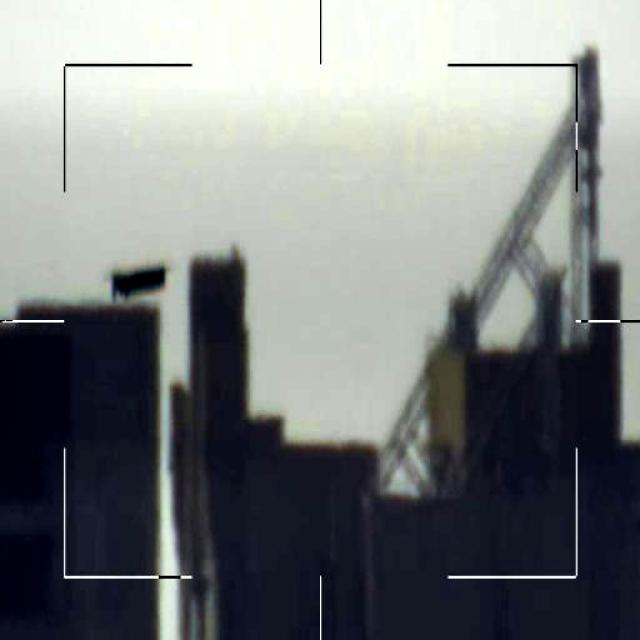bird: (106, 254, 170, 302)
